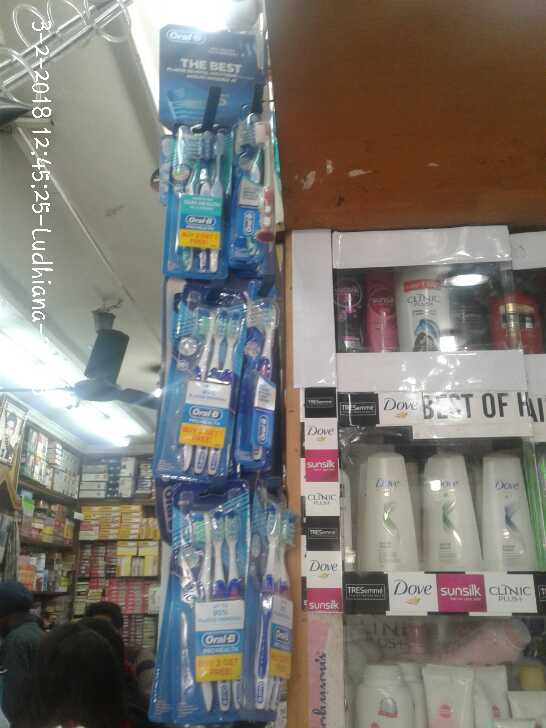oralb: (178, 497, 250, 719), (166, 293, 244, 490), (252, 493, 304, 715), (167, 118, 228, 269), (227, 113, 273, 264), (246, 289, 283, 462)
